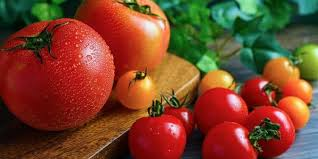tomate: (13, 10, 160, 113), (202, 73, 297, 157)
